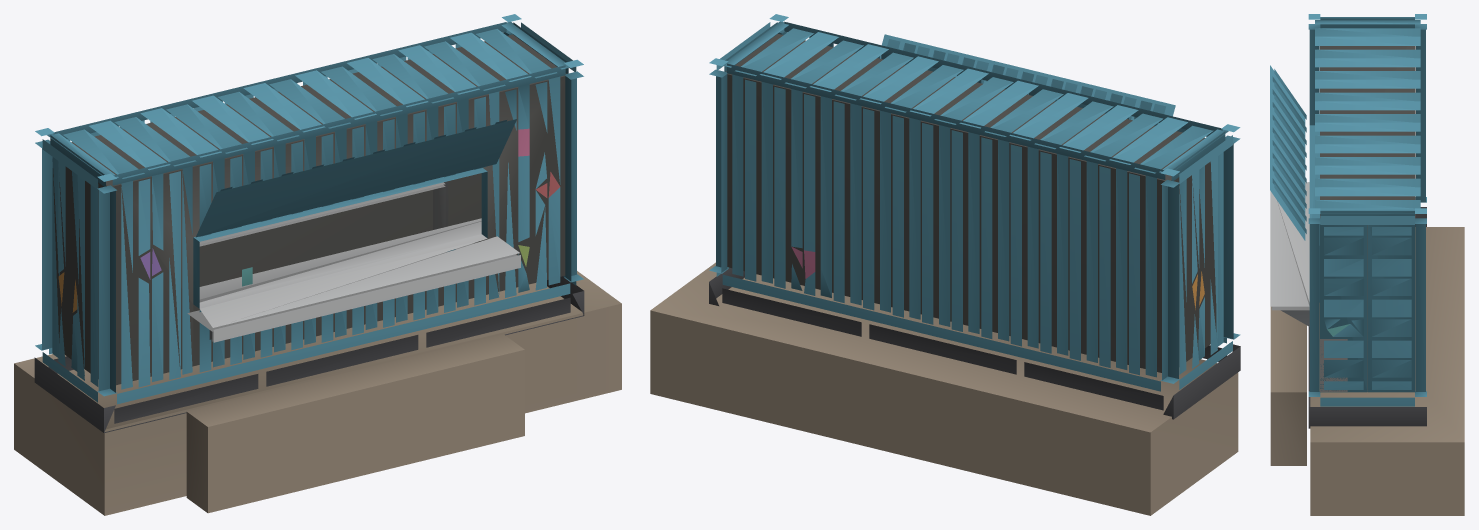
File: snackbox.lod.glb
3 renders of one model, left to right at view 1: azimuth 30°, elevation 25°; view 2: azimuth 150°, elevation 25°; view 3: azimuth 270°, elevation 25°, orthographic. The views are drawn at different scales.
Parts seen in each view (by area): view 1: snackbox; view 2: snackbox; view 3: snackbox.
Boxes of the visible parts, x1,y1,x2,y2 form: snackbox: [14, 14, 621, 515]; snackbox: [650, 14, 1240, 515]; snackbox: [1270, 14, 1464, 515].
Bounding box in the file's own units: 6.48 × 4 × 2.48.
